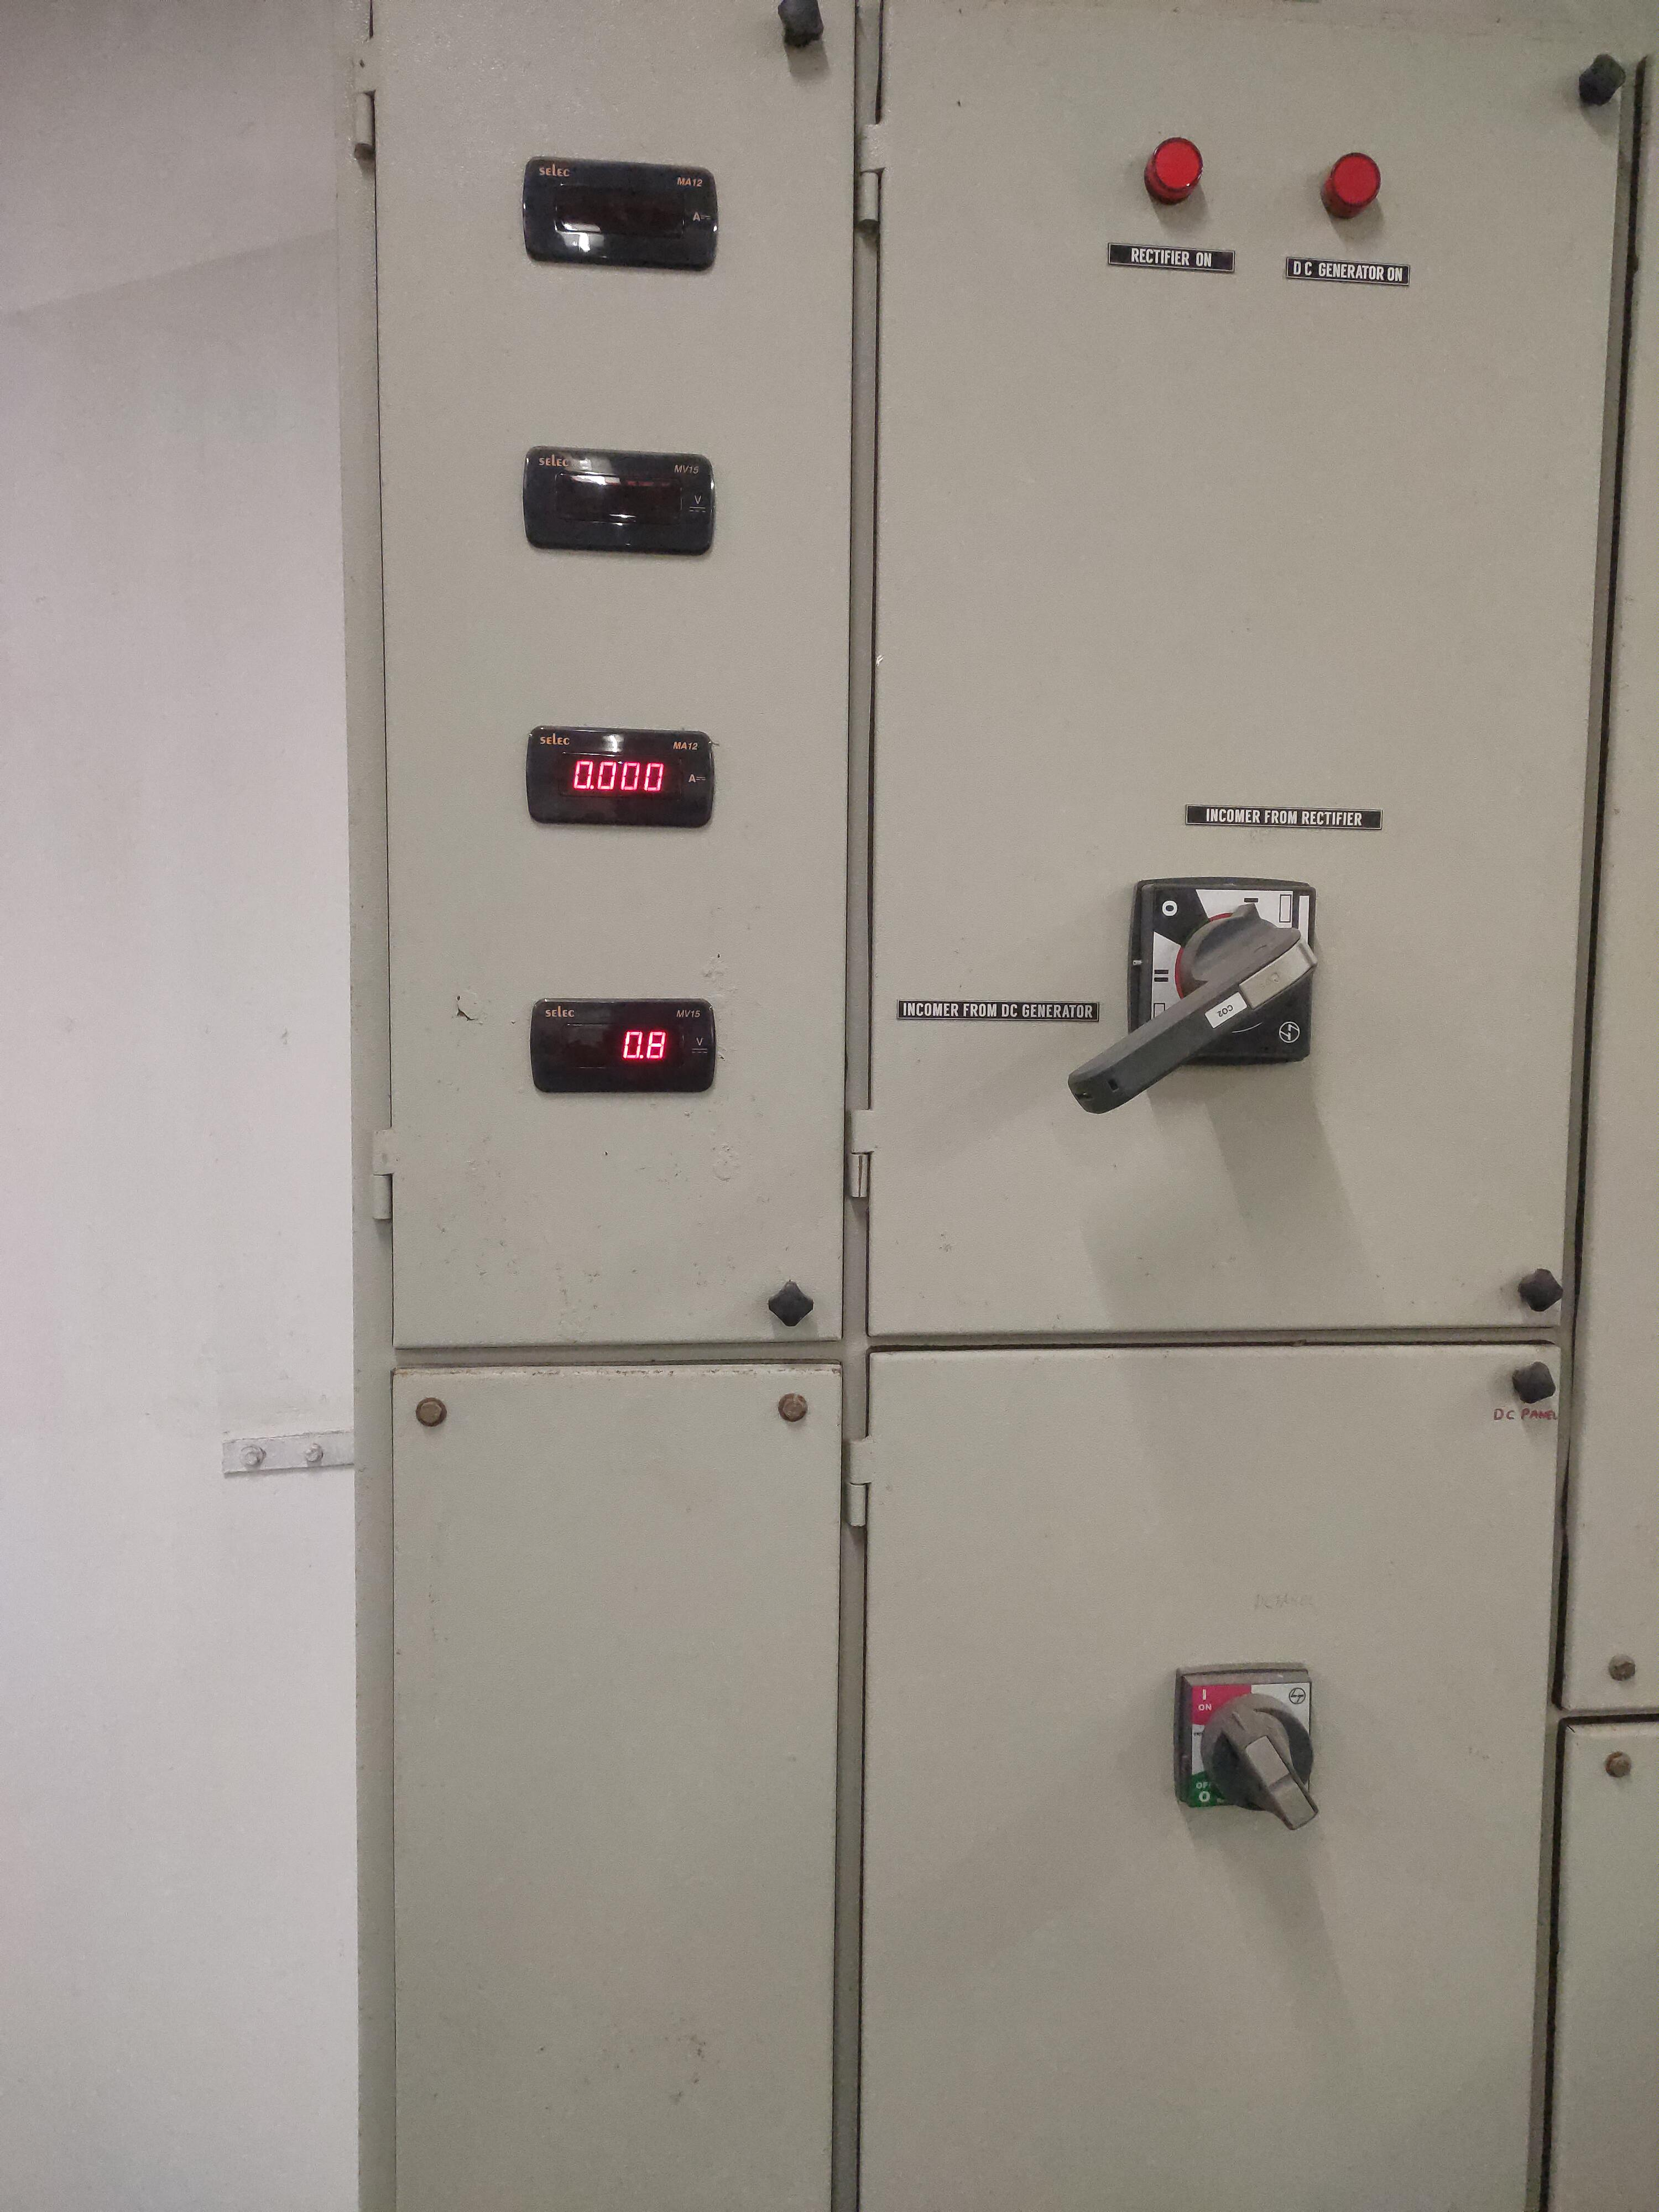Knob 1: (1058, 829, 1340, 1163)
Knob 2: (1147, 1635, 1345, 1851)
Light Indications: (1089, 124, 1452, 331)
